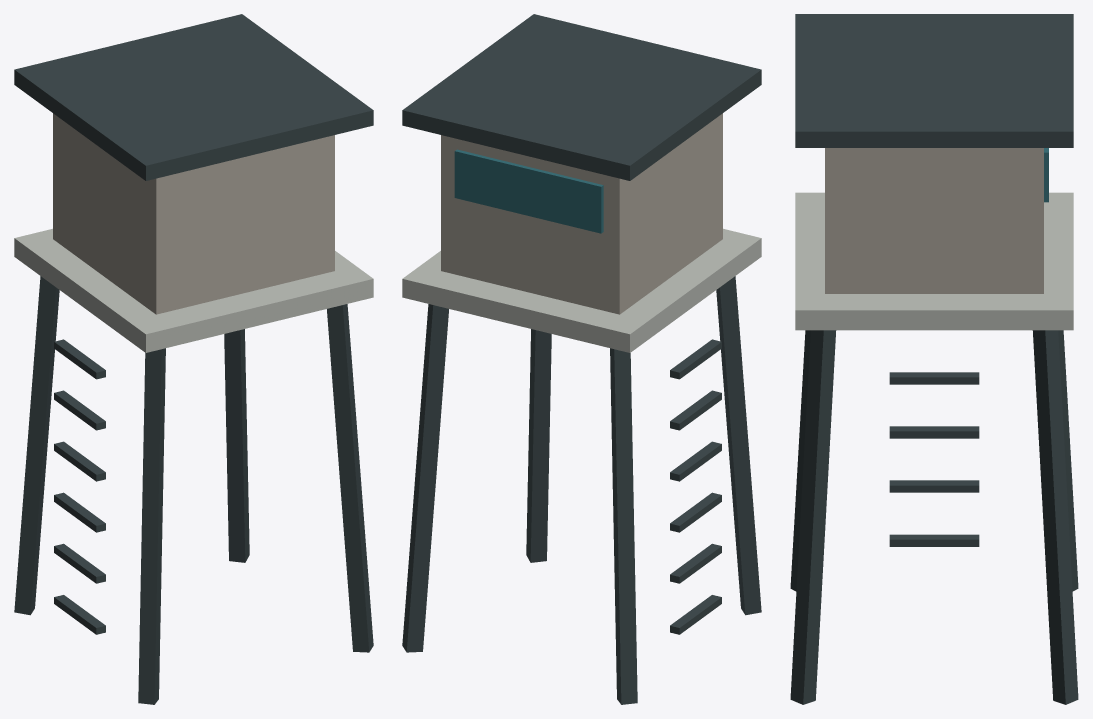
File: MIL_Watchtower.fbx
3 views of the same model, side by side, from view 1: azimuth 30°, elevation 25°; view 2: azimuth 150°, elevation 25°; view 3: azimuth 270°, elevation 25° (orthographic). The views are drawn at different scales.
Visible parts, largest first — view 1: MIL_Watchtower_Gunmetal, Cabin.001, Deck; view 2: MIL_Watchtower_Gunmetal, Cabin.001, Deck, Window.006; view 3: MIL_Watchtower_Gunmetal, Cabin.001, Deck.
Boxes of the visible parts, left/top/right/bottom form: MIL_Watchtower_Gunmetal: left=14, top=14, right=373, bottom=704; Cabin.001: left=53, top=113, right=334, bottom=314; Deck: left=14, top=228, right=373, bottom=352; MIL_Watchtower_Gunmetal: left=402, top=14, right=761, bottom=704; Cabin.001: left=441, top=113, right=722, bottom=314; Deck: left=402, top=228, right=761, bottom=352; Window.006: left=454, top=149, right=603, bottom=233; MIL_Watchtower_Gunmetal: left=790, top=14, right=1078, bottom=704; Cabin.001: left=825, top=148, right=1043, bottom=293; Deck: left=795, top=192, right=1073, bottom=330.
Bounding box in the file's own units: 291 × 635 × 289.
